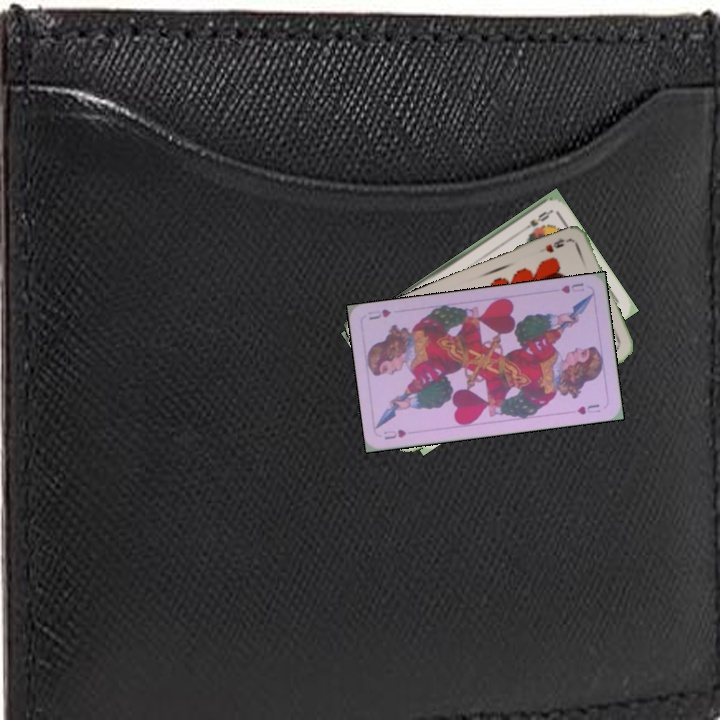H9: (536, 234, 573, 256)
HU: (557, 278, 587, 296), (380, 425, 409, 442)
SO: (517, 207, 553, 235)
